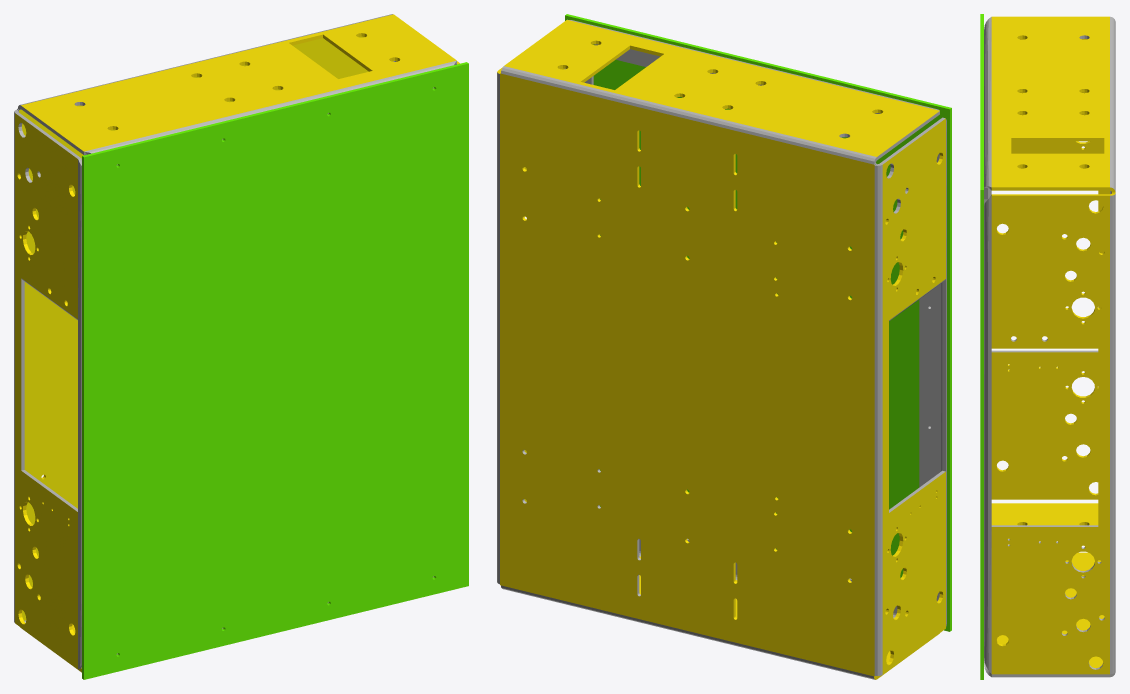
File: main_body_poleless.obj
3 renders of one model, left to right at view 1: azimuth 30°, elevation 25°; view 2: azimuth 150°, elevation 25°; view 3: azimuth 270°, elevation 25°, orthographic. The views are drawn at different scales.
Visible parts, largest first — view 1: メッシュ フィーチャ1_2, メッシュ フィーチャ1_1; view 2: メッシュ フィーチャ1_1, メッシュ フィーチャ1_2; view 3: メッシュ フィーチャ1_1, メッシュ フィーチャ1_2.
Boxes of the visible parts, left/top/right/bottom form: メッシュ フィーチャ1_2: left=82, top=62, right=468, bottom=679; メッシュ フィーチャ1_1: left=14, top=14, right=459, bottom=672; メッシュ フィーチャ1_1: left=497, top=19, right=946, bottom=679; メッシュ フィーチャ1_2: left=565, top=14, right=951, bottom=631; メッシュ フィーチャ1_1: left=984, top=16, right=1115, bottom=677; メッシュ フィーチャ1_2: left=980, top=14, right=983, bottom=679.
Size of the model in its own units: 336 by 436 by 109.
